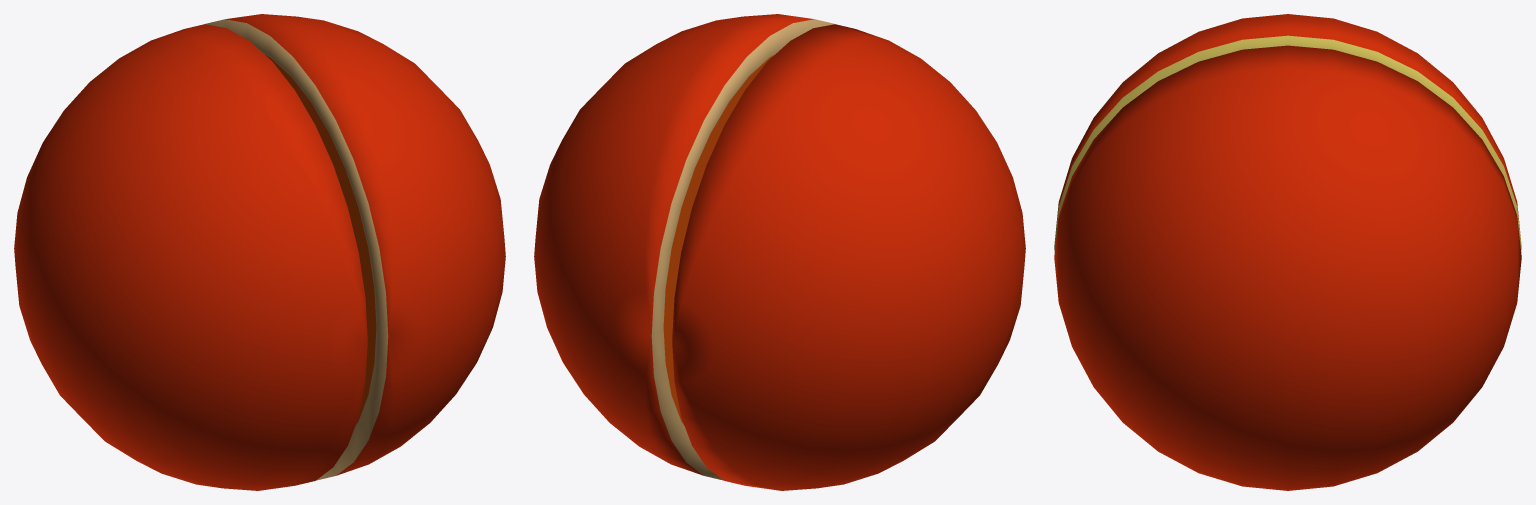
The model's file is Orange_Cut.fbx.
3 renders of one model, left to right at view 1: azimuth 30°, elevation 25°; view 2: azimuth 150°, elevation 25°; view 3: azimuth 270°, elevation 25°, orthographic.
Visible parts, largest first — view 1: Sphere.001, Sphere (×3); view 2: Sphere.001, Sphere (×3); view 3: Sphere, Sphere.001 (×2).
Boxes of the visible parts, left/top/right/bottom form: Sphere.001: left=14, top=24, right=367, bottom=490; Sphere (×3): left=204, top=14, right=505, bottom=480; Sphere.001: left=672, top=24, right=1025, bottom=490; Sphere (×3): left=534, top=14, right=835, bottom=480; Sphere: left=1054, top=45, right=1521, bottom=490; Sphere.001 (×2): left=1054, top=14, right=1521, bottom=251.
Size of the model in its own units: 2.1 by 2 by 2.
